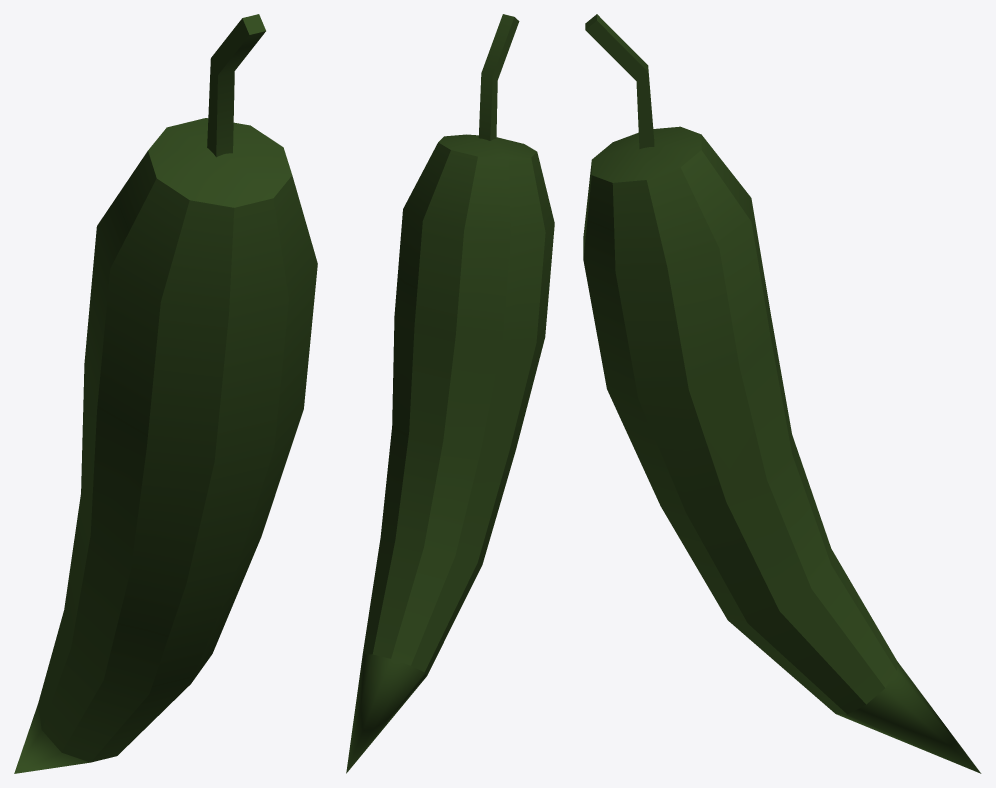
Rendered from GreenPepper.fbx.
The picture shows the model from 3 angles, left to right: view 1: azimuth 30°, elevation 25°; view 2: azimuth 150°, elevation 25°; view 3: azimuth 270°, elevation 25°; orthographic projection. The views are drawn at different scales.
Visible parts, largest first — view 1: GreenPepper10; view 2: GreenPepper10; view 3: GreenPepper10.
Part boxes in pixels (box(x1,y1,x2,y2)): GreenPepper10: box(14, 14, 317, 773); GreenPepper10: box(346, 14, 554, 773); GreenPepper10: box(583, 14, 981, 773).
Size of the model in its own units: 1.11 by 5.09 by 2.43.
